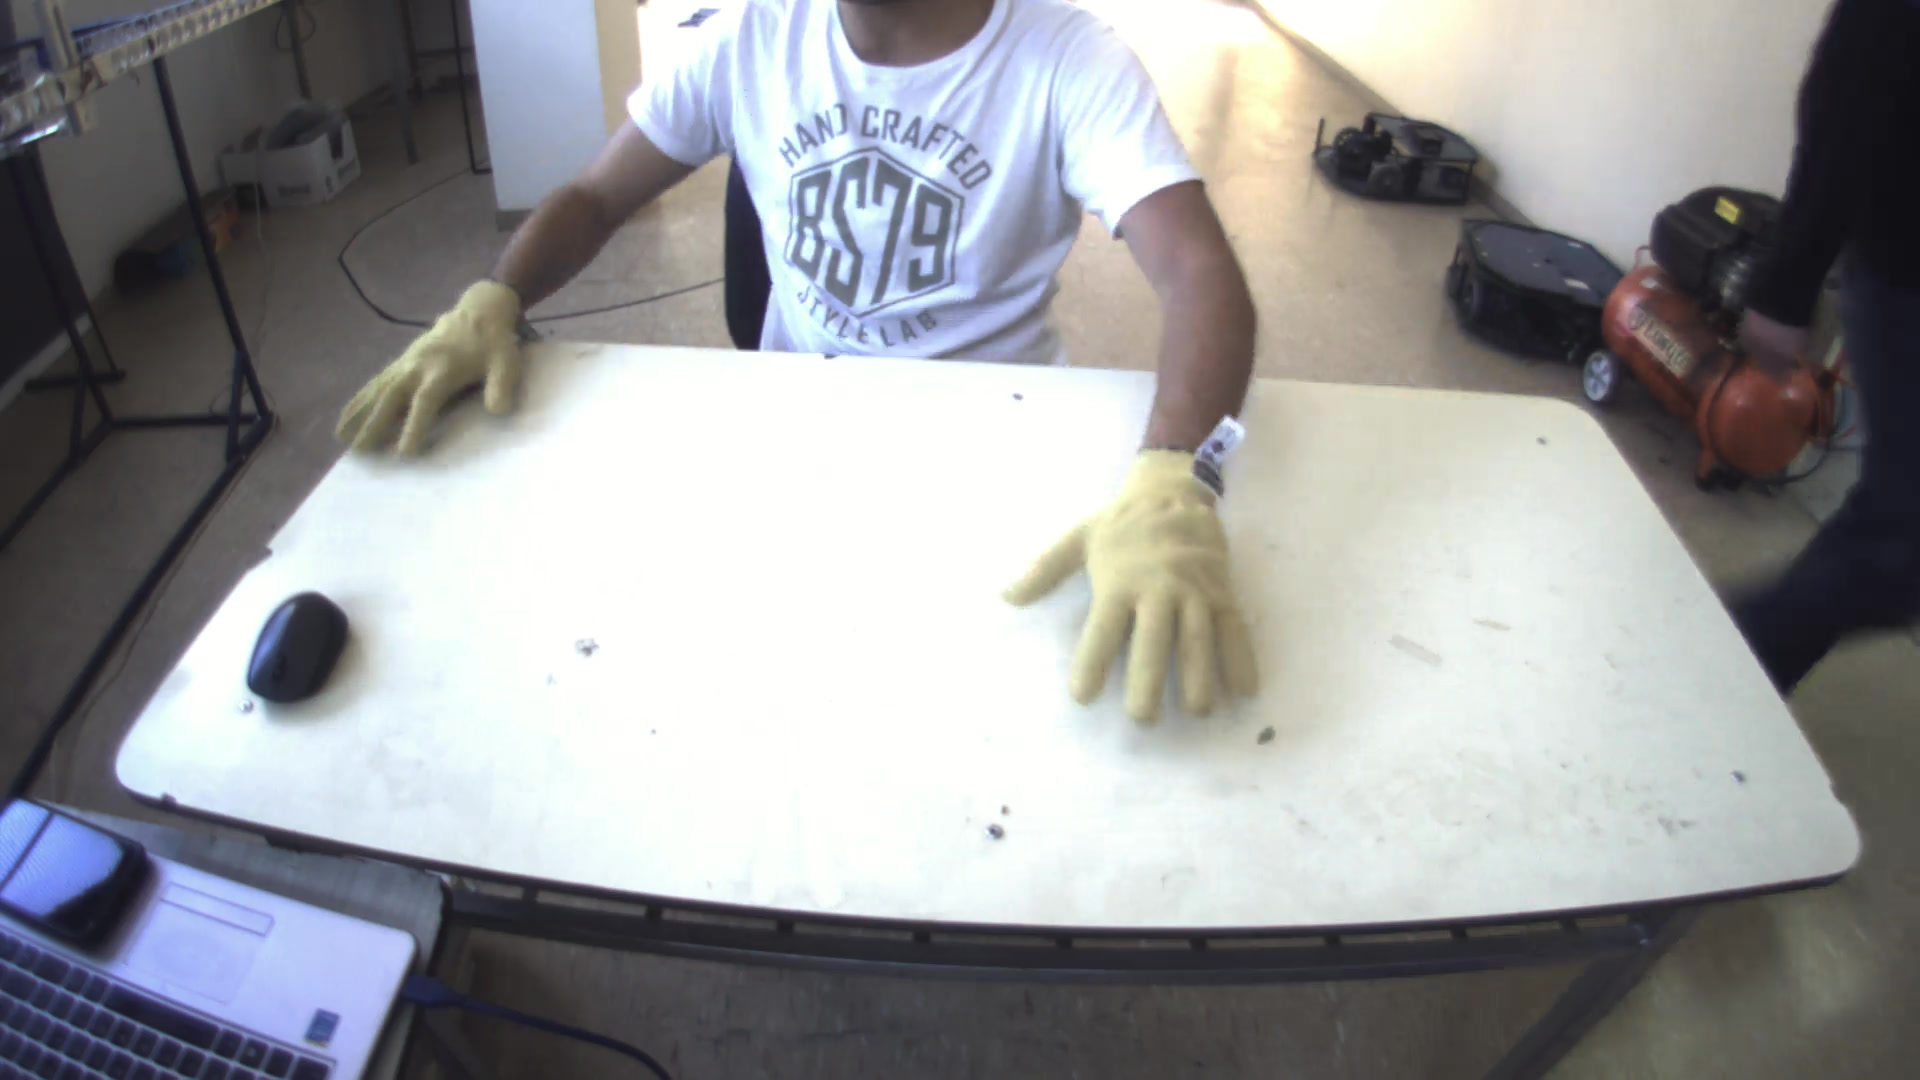hand: (997, 436, 1276, 727), (324, 269, 534, 465)
